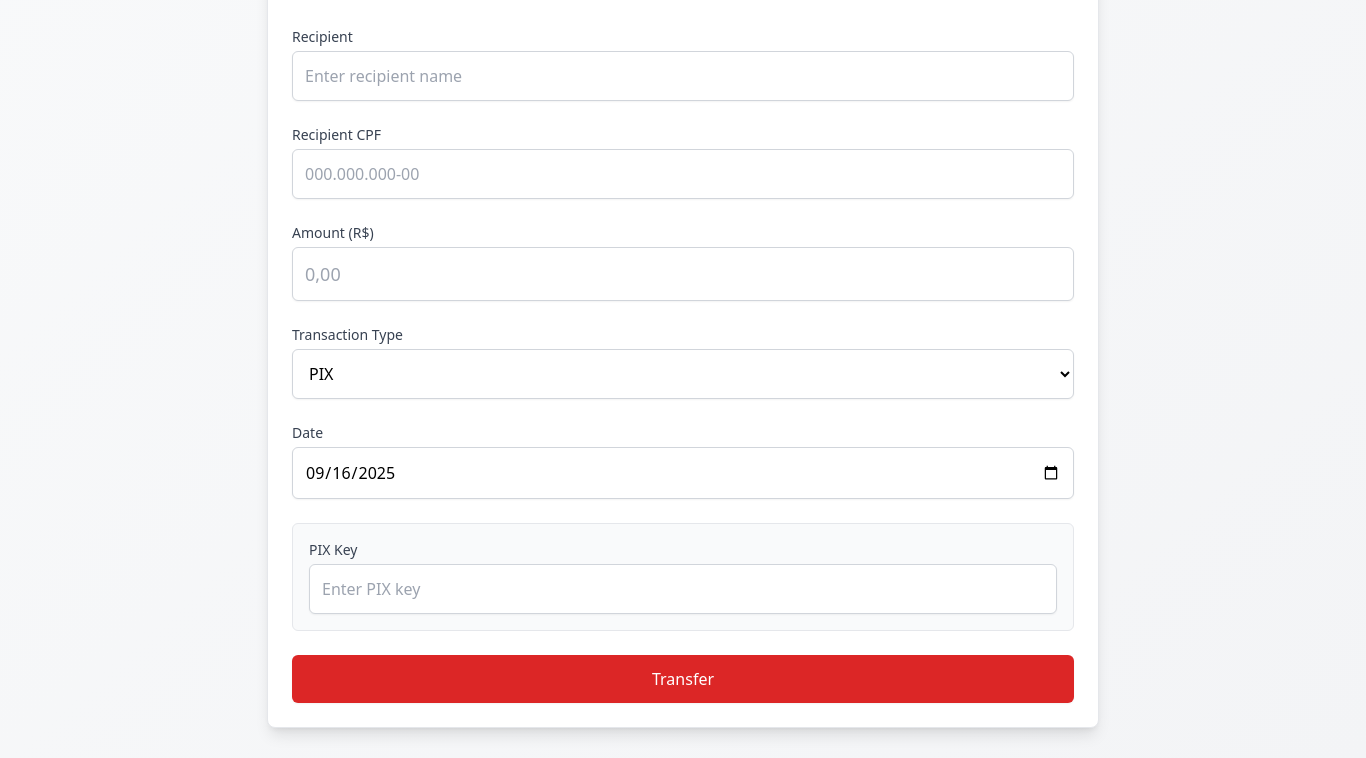
Transactions Component › should show correct fields when switching between PIX and TED
The image size is (1366, 758).
(page scrolled)
Expected: the field labelled "PIX Key" is shown, [309, 564, 1057, 614]
Expected: the field labelled "Bank" is not shown
Note: Switch to TED
Select "TED" in the dropdown labelled "Transaction Type" at (683, 374), box [292, 349, 1074, 399]
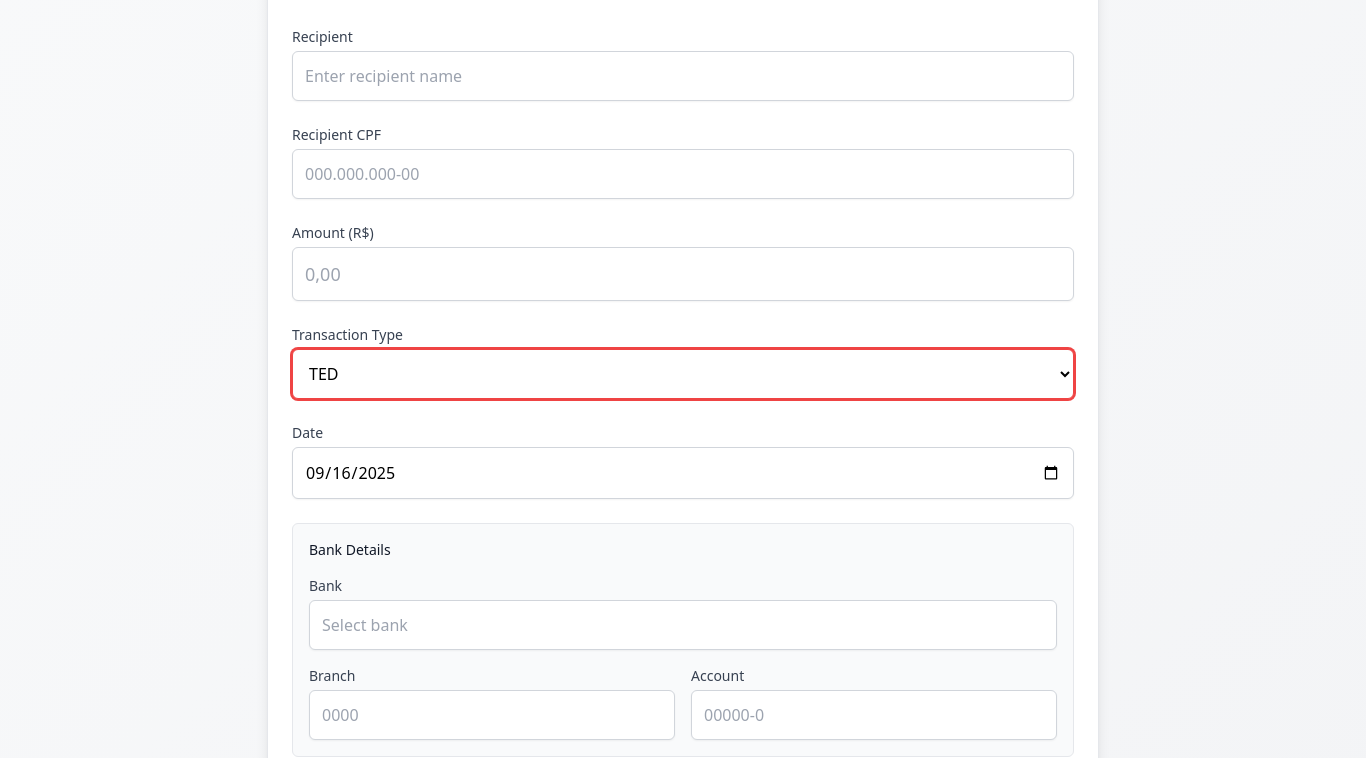
Expected: the field labelled "Bank" is shown, [309, 600, 1057, 650]
Expected: the field labelled "Branch" is shown, [309, 690, 675, 740]
Expected: the field labelled "Account" is shown, [691, 690, 1057, 740]
